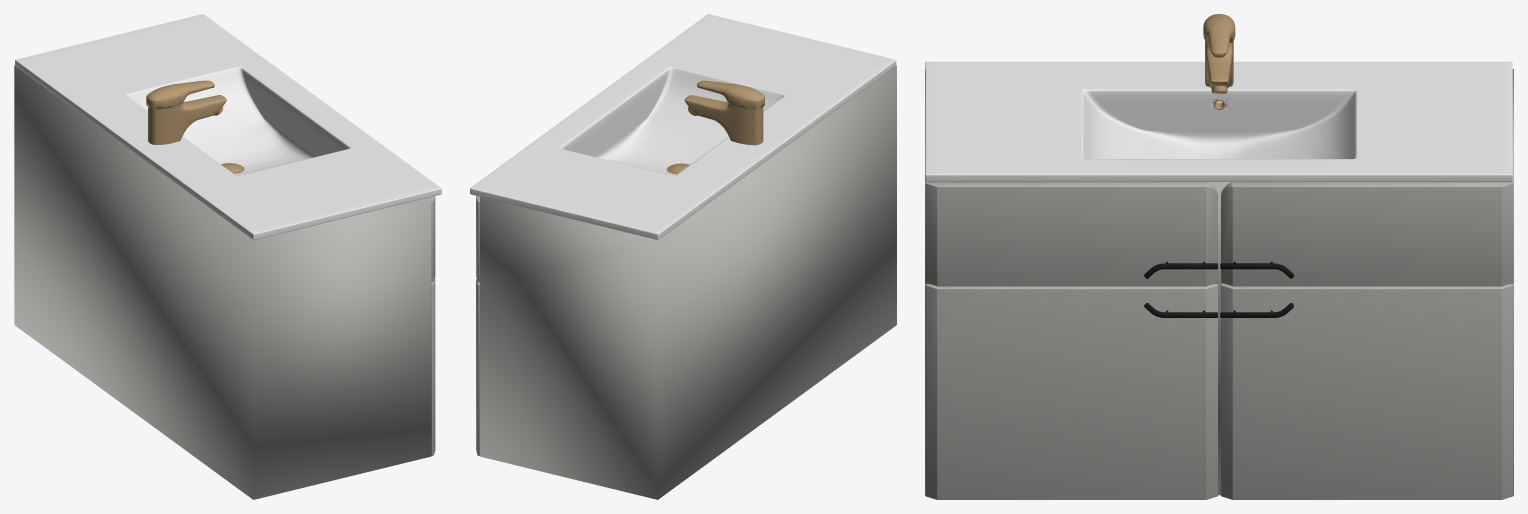
File: Wash-basin.obj
3 renders of one model, left to right at view 1: azimuth 30°, elevation 25°; view 2: azimuth 150°, elevation 25°; view 3: azimuth 270°, elevation 25°, orthographic. The views are drawn at different scales.
Parts seen in each view (by area): view 1: Cajonera, Marmol, Grifo, Puertas; view 2: Cajonera, Marmol, Grifo, Puertas; view 3: Puertas, Marmol, Grifo, Cajonera, TiradorSuperior, TiradorInferior.
Boxes of the visible parts, <box> form: Cajonera: <box>14,65,431,499</box>; Marmol: <box>15,14,441,240</box>; Grifo: <box>146,80,226,144</box>; Puertas: <box>431,196,435,455</box>; Cajonera: <box>480,65,896,499</box>; Marmol: <box>470,14,896,239</box>; Grifo: <box>684,80,764,145</box>; Puertas: <box>476,196,479,455</box>; Puertas: <box>925,182,1513,499</box>; Marmol: <box>925,61,1512,181</box>; Grifo: <box>1203,14,1235,93</box>; Cajonera: <box>925,69,1513,495</box>; TiradorSuperior: <box>1144,261,1293,278</box>; TiradorInferior: <box>1144,302,1293,317</box>.
Size of the model in its own units: 0.5746 by 0.8925 by 1.22.
